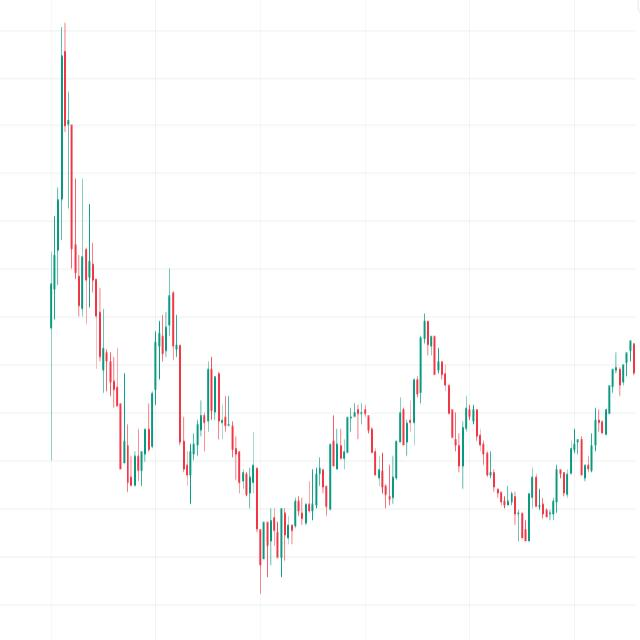Channel-up: (497, 311, 640, 609)
Rising-Wedge: (247, 382, 374, 640)
Rounding-Bottom: (168, 296, 428, 583), (430, 326, 636, 551)
